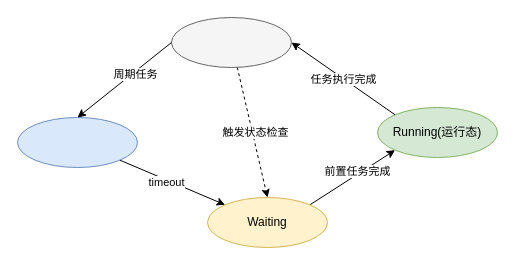
Some shapes in this 515 by 265 pixel diagram are drawn without their labels. The shapes that lost their labels are listed below. From the top down, each one's centre as x and y in pixels, then its label:
point 231,42: Completed
point 77,142: Sleeping
